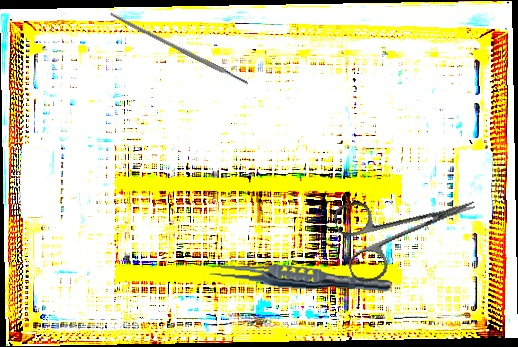Iris Scissors: (331, 168, 487, 287)
Scalpel Handle: (109, 11, 249, 87)
Tissue Forceps: (207, 258, 392, 297)
